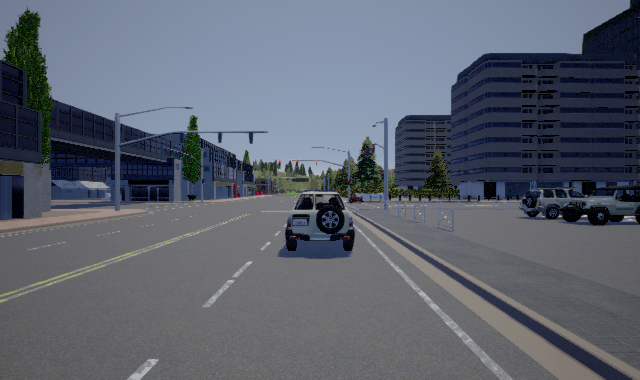vehicle: (285, 188, 355, 251), (562, 185, 640, 222), (519, 185, 591, 222)
